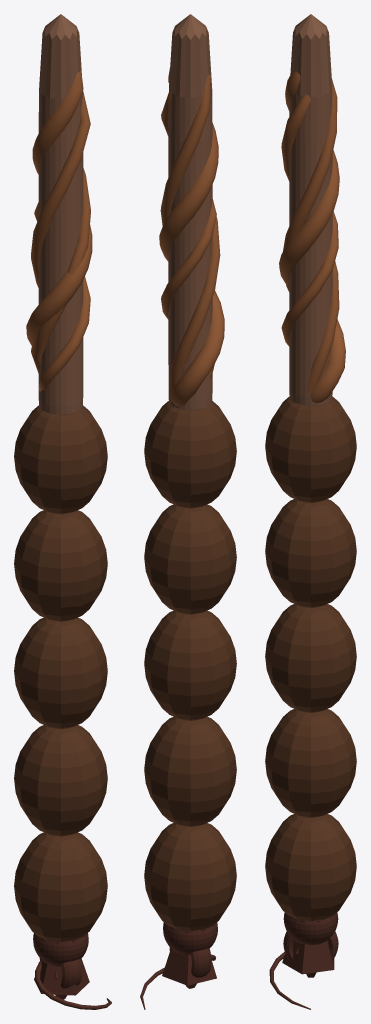
The model's file is Wand 270.glb.
3 views of the same model, side by side, from view 1: azimuth 30°, elevation 25°; view 2: azimuth 210°, elevation 25°; view 3: azimuth 270°, elevation 25° (orthographic). The views are drawn at different scales.
Visible parts, largest first — view 1: GeneratedWand, Pommel_4, Pommel_9, Pommel_10, Pommel_2; view 2: GeneratedWand, Pommel_4, Pommel_9, Pommel_2; view 3: GeneratedWand, Pommel_9, Pommel_4, Pommel_2, Pommel_10.
Boxes of the visible parts, left/top/right/bottom form: GeneratedWand: left=14, top=14, right=107, bottom=943; Pommel_4: left=33, top=933, right=88, bottom=966; Pommel_9: left=34, top=958, right=89, bottom=995; Pommel_10: left=35, top=960, right=111, bottom=1009; Pommel_2: left=39, top=958, right=81, bottom=988; GeneratedWand: left=144, top=14, right=236, bottom=932; Pommel_4: left=163, top=922, right=217, bottom=954; Pommel_9: left=162, top=948, right=216, bottom=985; Pommel_2: left=169, top=947, right=211, bottom=977; GeneratedWand: left=265, top=14, right=356, bottom=922; Pommel_9: left=282, top=940, right=334, bottom=974; Pommel_4: left=283, top=912, right=338, bottom=944; Pommel_2: left=283, top=931, right=338, bottom=960; Pommel_10: left=269, top=951, right=310, bottom=1009.
Size of the model in its own units: 0.0481 by 0.5262 by 0.0449.
